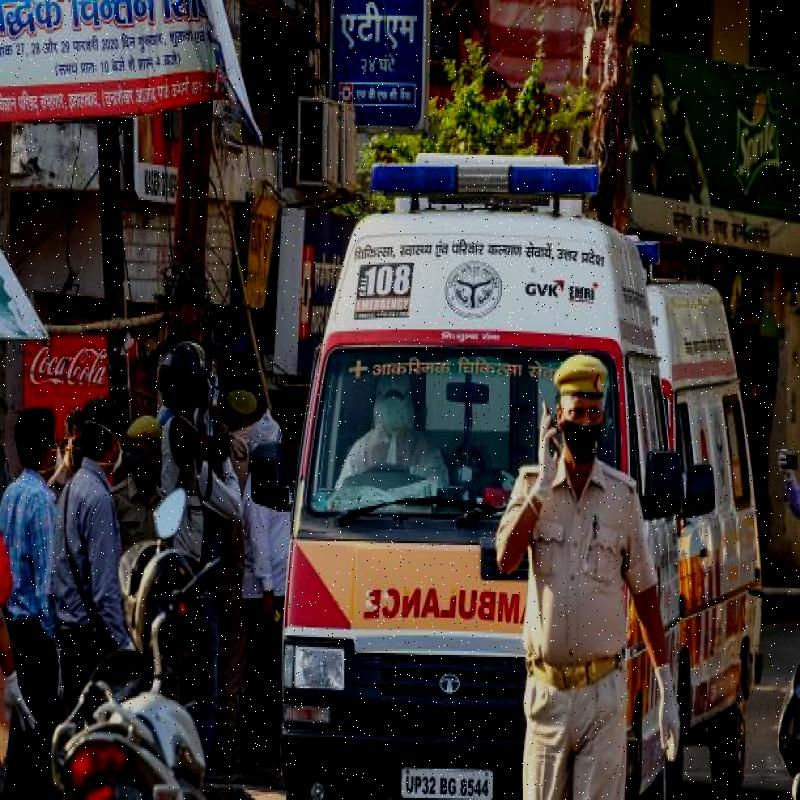ambulance: (310, 0, 514, 800)
